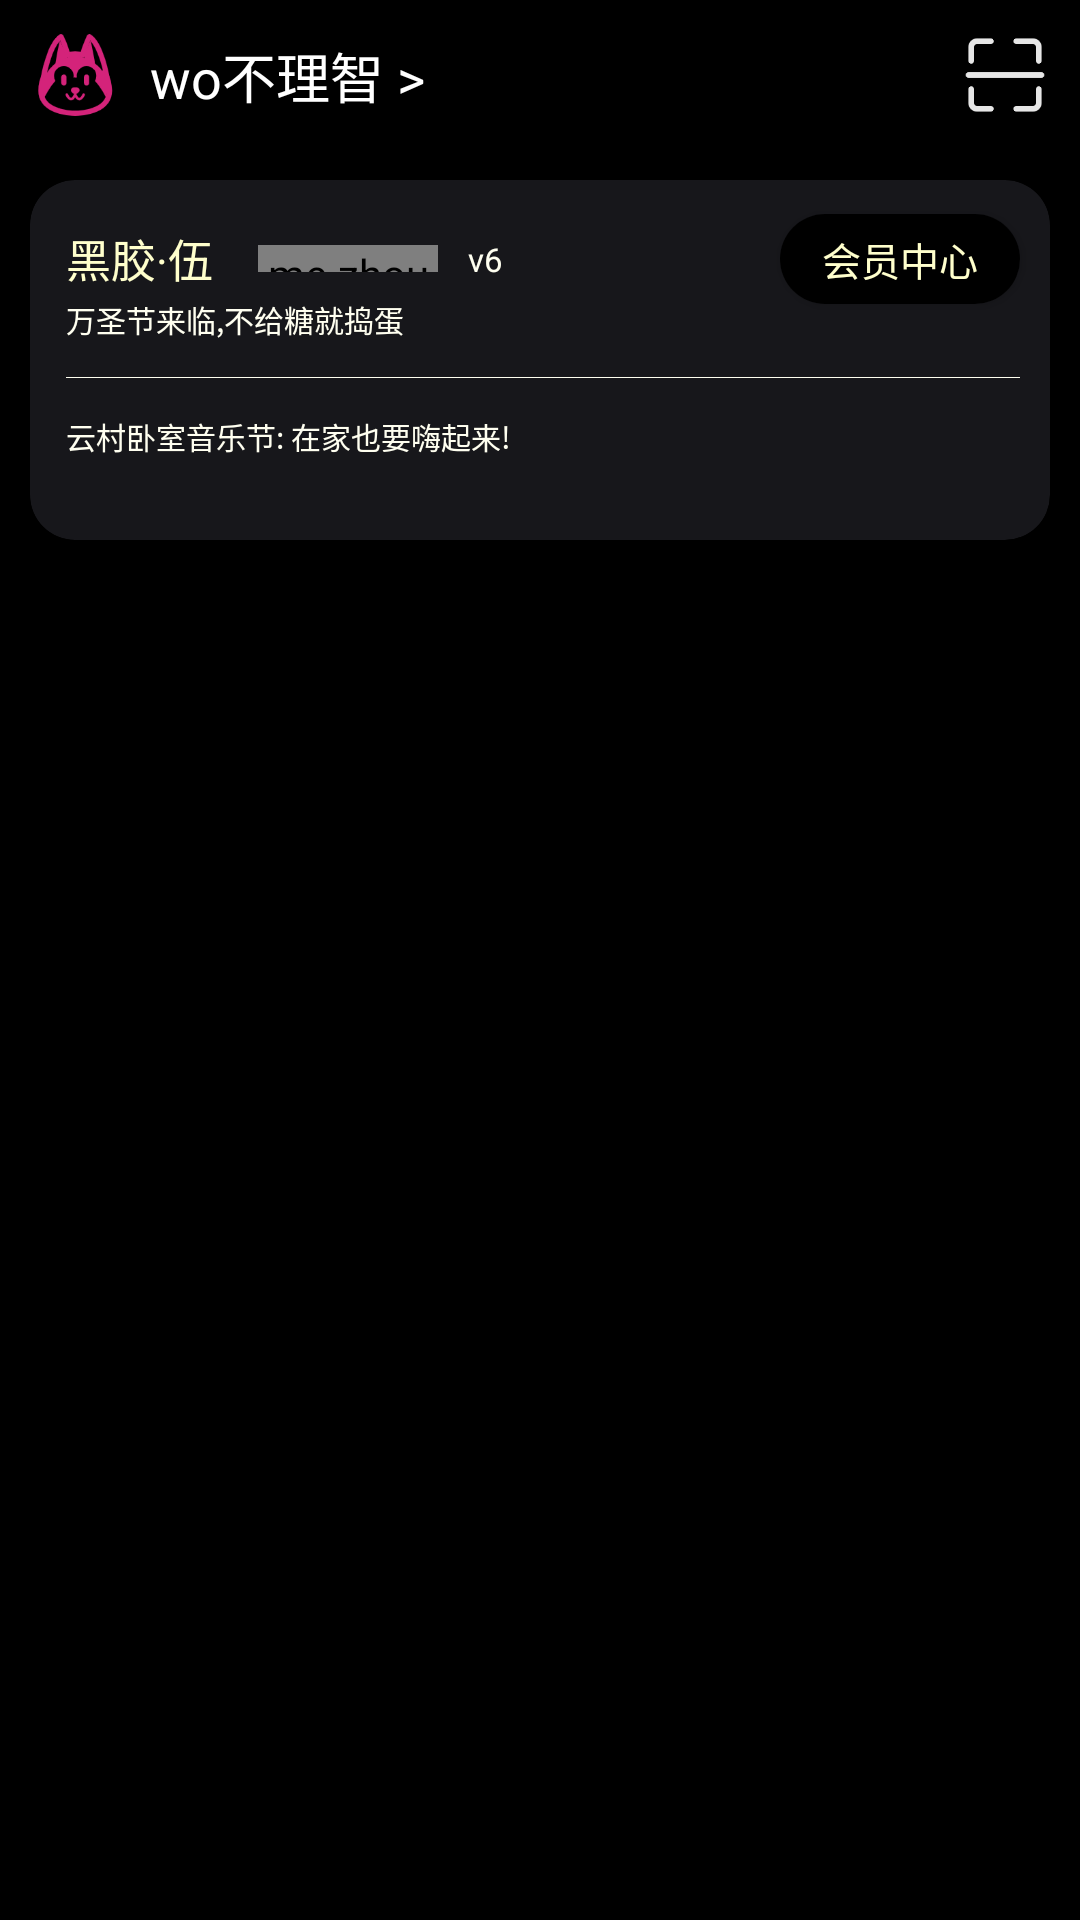

Where to tap for icons on this 1080px x 1920px app screen, as (x,y):
dog: (75,75)
scan code: (1005,75)
